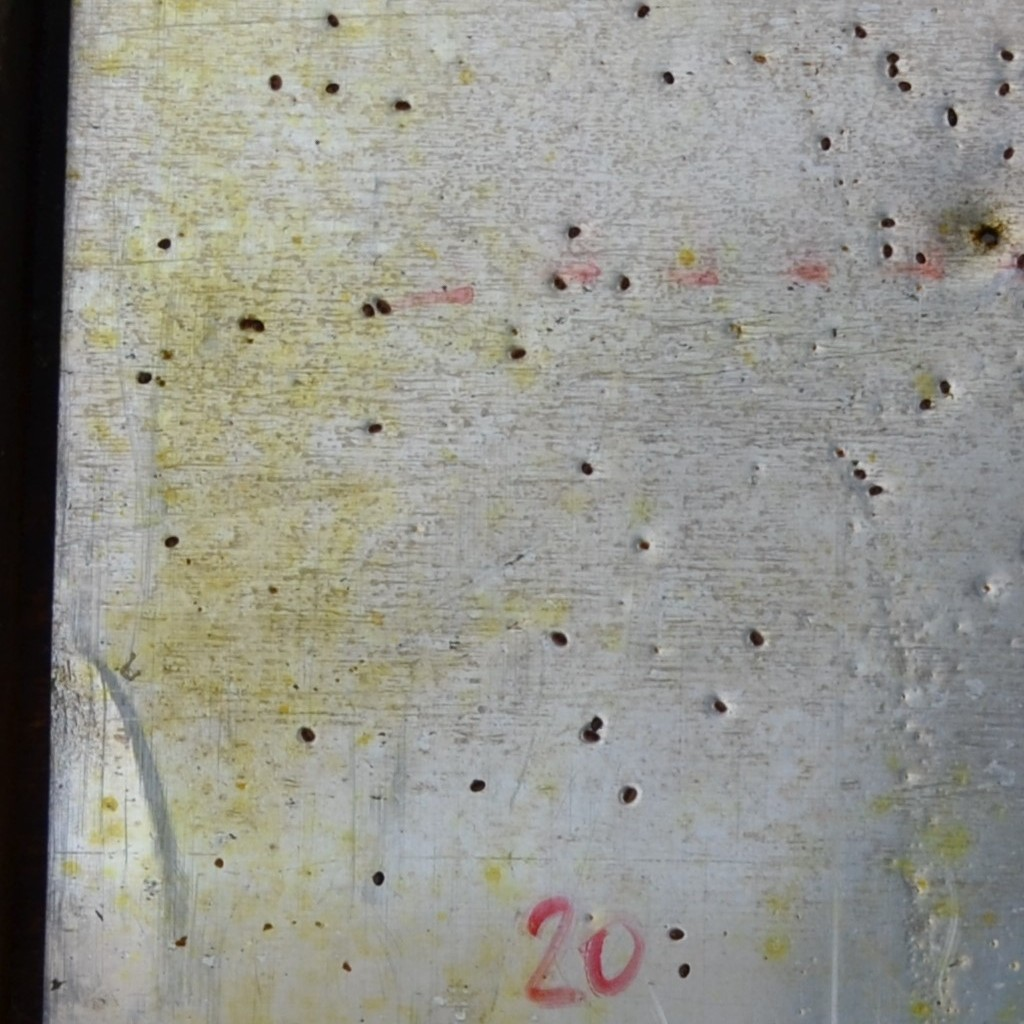varroa: (250, 308, 267, 333), (712, 695, 731, 717), (268, 69, 284, 94), (508, 342, 528, 362), (666, 923, 686, 943), (615, 272, 634, 293), (298, 723, 316, 745), (621, 783, 638, 806), (676, 958, 692, 982), (552, 273, 570, 293), (749, 628, 766, 649), (375, 295, 392, 316), (917, 394, 933, 416), (134, 368, 153, 386), (852, 22, 870, 40), (997, 77, 1012, 98), (634, 2, 651, 20), (878, 212, 896, 229), (549, 629, 567, 646), (469, 777, 487, 794), (580, 458, 596, 477), (868, 482, 888, 497), (372, 867, 386, 888), (393, 96, 412, 111), (567, 221, 582, 240), (325, 9, 339, 29), (662, 65, 676, 85), (946, 105, 958, 128), (881, 240, 894, 261), (999, 45, 1015, 62), (912, 247, 928, 264), (365, 418, 382, 434), (163, 531, 180, 547), (583, 728, 601, 743), (818, 133, 833, 150), (885, 49, 902, 64), (939, 377, 951, 398), (588, 716, 606, 730), (898, 78, 914, 93), (237, 316, 252, 332), (156, 237, 171, 253), (1001, 146, 1016, 161), (359, 303, 374, 318), (886, 64, 900, 79), (324, 80, 340, 93), (852, 467, 868, 479), (1015, 252, 1023, 272)
